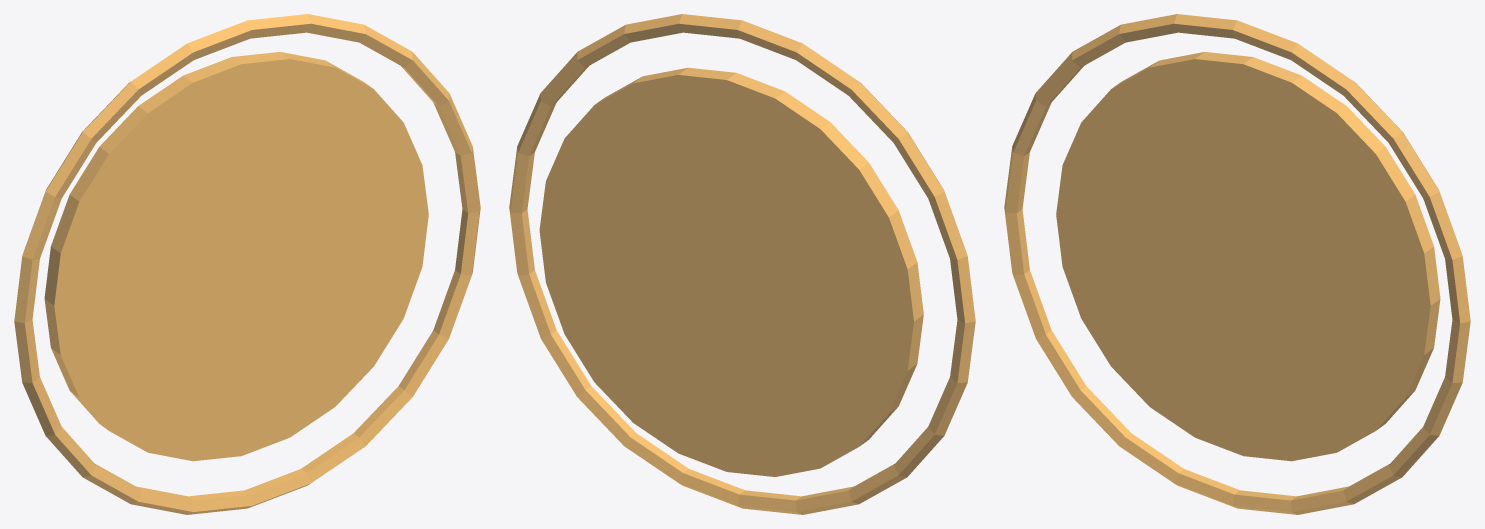
The model's file is rarity_base_legendary.glb.
The picture shows the model from 3 angles, left to right: view 1: azimuth 30°, elevation 25°; view 2: azimuth 150°, elevation 25°; view 3: azimuth 330°, elevation 25°; orthographic projection.
Visible parts, largest first — view 1: base_disc, outer_ring; view 2: base_disc, outer_ring; view 3: base_disc, outer_ring.
Part boxes in pixels (x1=…): base_disc: x1=44, y1=52, x2=428, y2=461; outer_ring: x1=14, y1=14, x2=480, y2=514; base_disc: x1=539, y1=67, x2=923, y2=476; outer_ring: x1=509, y1=14, x2=975, y2=514; base_disc: x1=1056, y1=52, x2=1440, y2=461; outer_ring: x1=1004, y1=14, x2=1470, y2=514.
Bounding box in the file's own units: 1.37 × 1.37 × 0.1038.
